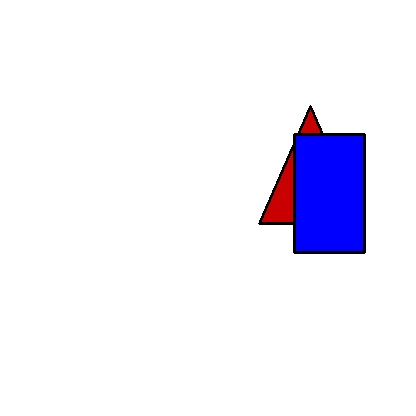rectangle: (294, 134, 364, 252)
triangle: (259, 106, 361, 223)
